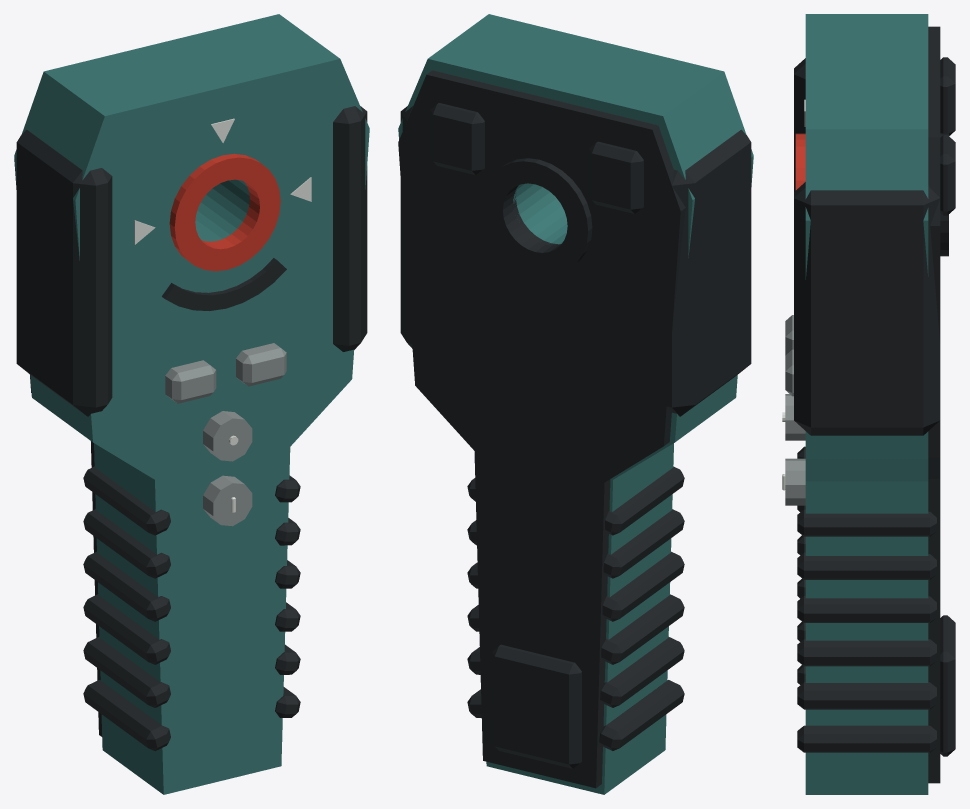
Rendered from A-NEW-20261026-WALL-SCANNER-001_LOD2_R1.fbx.
3 views of the same model, side by side, from view 1: azimuth 30°, elevation 25°; view 2: azimuth 150°, elevation 25°; view 3: azimuth 270°, elevation 25° (orthographic).
Parts seen in each view (by area): view 1: wide head and narrow grip closed shell, head side bumper, head side bumper.001, red through marking rim, diagonal grip rib, diagonal grip rib.002, diagonal grip rib.004, inactive curved indicator, diagonal grip rib.006, diagonal grip rib.008, diagonal grip rib.010, round speaker button (+3 smaller); view 2: generic closed rear contact cover, wide head and narrow grip closed shell, head side bumper, rear lower contact pad, rear hole support rim, rear upper contact pad, rear upper contact pad.001, diagonal grip rib, diagonal grip rib.002, diagonal grip rib.004, diagonal grip rib.006, diagonal grip rib.008 (+2 smaller); view 3: wide head and narrow grip closed shell, head side bumper.001, generic closed rear contact cover, diagonal grip rib.001, diagonal grip rib.003, diagonal grip rib.005, diagonal grip rib.007, diagonal grip rib.009, diagonal grip rib.011, rear lower contact pad, rear upper contact pad.001, rear upper contact pad (+6 smaller).
Boxes of the visible parts, box(x1,y1,x2,y2) form: wide head and narrow grip closed shell: box(14, 14, 369, 794); head side bumper: box(16, 129, 112, 416); head side bumper.001: box(333, 106, 367, 351); red through marking rim: box(169, 153, 280, 271); diagonal grip rib: box(83, 680, 170, 750); diagonal grip rib.002: box(83, 637, 170, 707); diagonal grip rib.004: box(83, 594, 170, 664); inactive curved indicator: box(162, 258, 286, 310); diagonal grip rib.006: box(83, 551, 170, 621); diagonal grip rib.008: box(83, 509, 170, 578); diagonal grip rib.010: box(83, 466, 170, 535); round speaker button: box(203, 411, 252, 461); generic closed rear contact cover: box(398, 70, 685, 788); wide head and narrow grip closed shell: box(398, 14, 753, 794); head side bumper: box(666, 129, 751, 416); rear lower contact pad: box(491, 644, 581, 768); rear hole support rim: box(482, 158, 592, 274); rear upper contact pad: box(589, 141, 643, 213); rear upper contact pad.001: box(430, 103, 484, 175); diagonal grip rib: box(599, 680, 684, 750); diagonal grip rib.002: box(600, 637, 684, 707); diagonal grip rib.004: box(601, 594, 684, 664); diagonal grip rib.006: box(602, 551, 684, 621); diagonal grip rib.008: box(603, 509, 684, 578); wide head and narrow grip closed shell: box(805, 14, 928, 794); head side bumper.001: box(794, 182, 940, 435); generic closed rear contact cover: box(928, 26, 940, 783); diagonal grip rib.001: box(797, 725, 936, 752); diagonal grip rib.003: box(797, 682, 936, 709); diagonal grip rib.005: box(797, 639, 936, 666); diagonal grip rib.007: box(797, 596, 936, 622); diagonal grip rib.009: box(797, 552, 936, 579); diagonal grip rib.011: box(797, 509, 936, 536); rear lower contact pad: box(940, 615, 955, 756); rear upper contact pad.001: box(940, 135, 955, 215); rear upper contact pad: box(940, 57, 955, 135).
Bounding box in the file's own units: 10 × 22.5 × 5.09.
